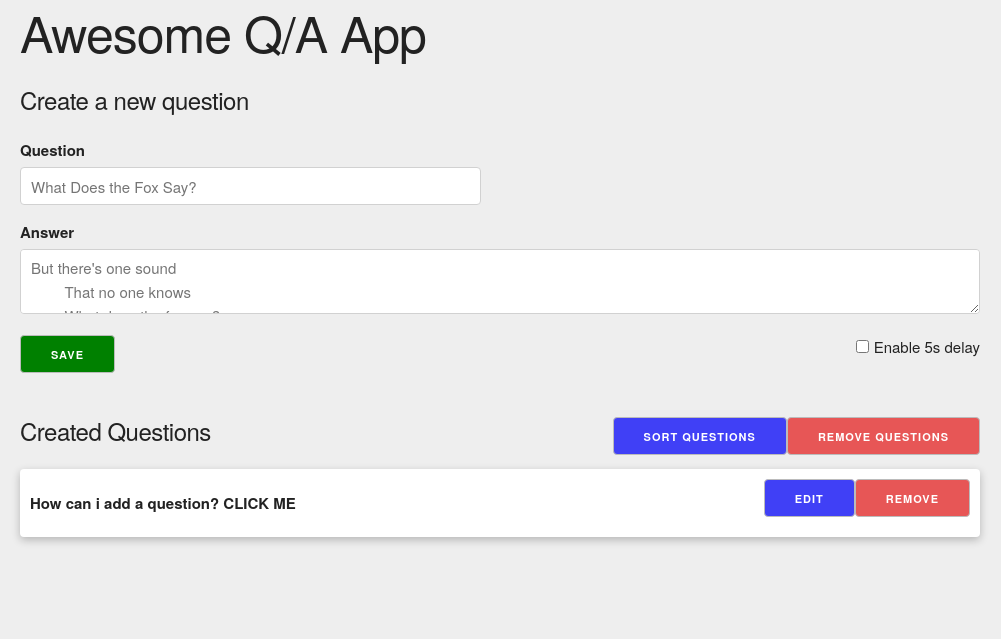
Test: Question › Remove all questions
Type "REMOVE QUESTIONS" into the field labelled "Question" at (251, 186), box [20,167,481,205]
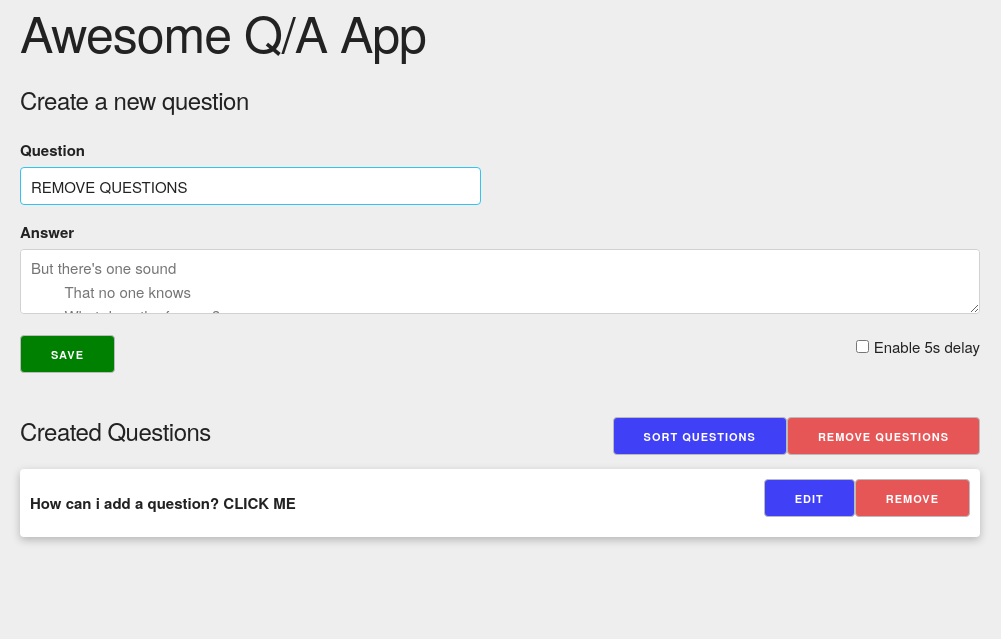
Type "REMOVE ANSWERS" into the text box with id "answer" at (500, 282), box [20,249,980,314]
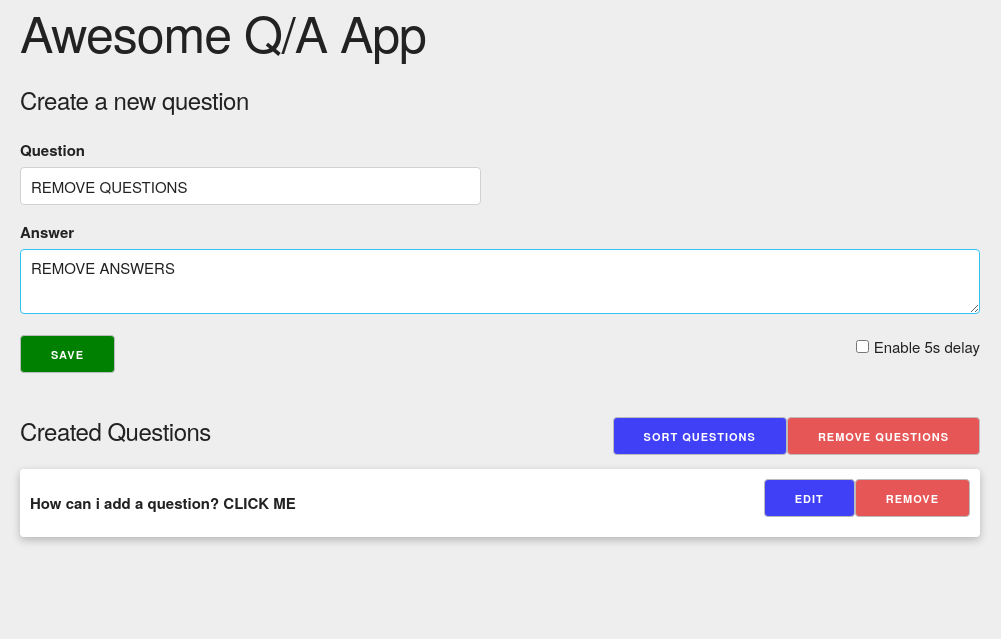
Click the button "Save" at (68, 354), box [20,335,115,373]
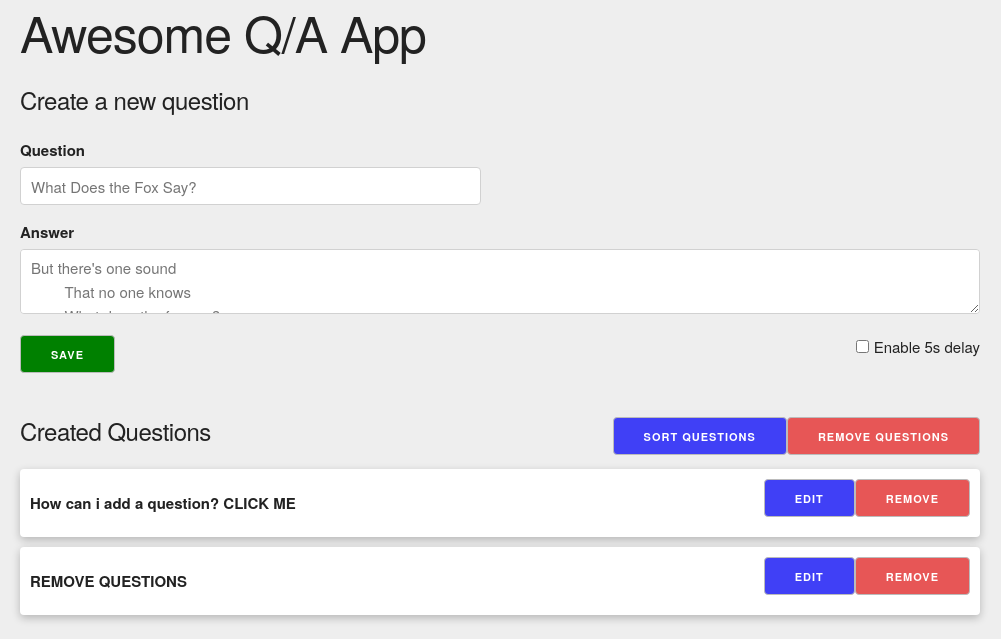
Click the button "Remove Questions" at (884, 436), box [787,417,980,455]
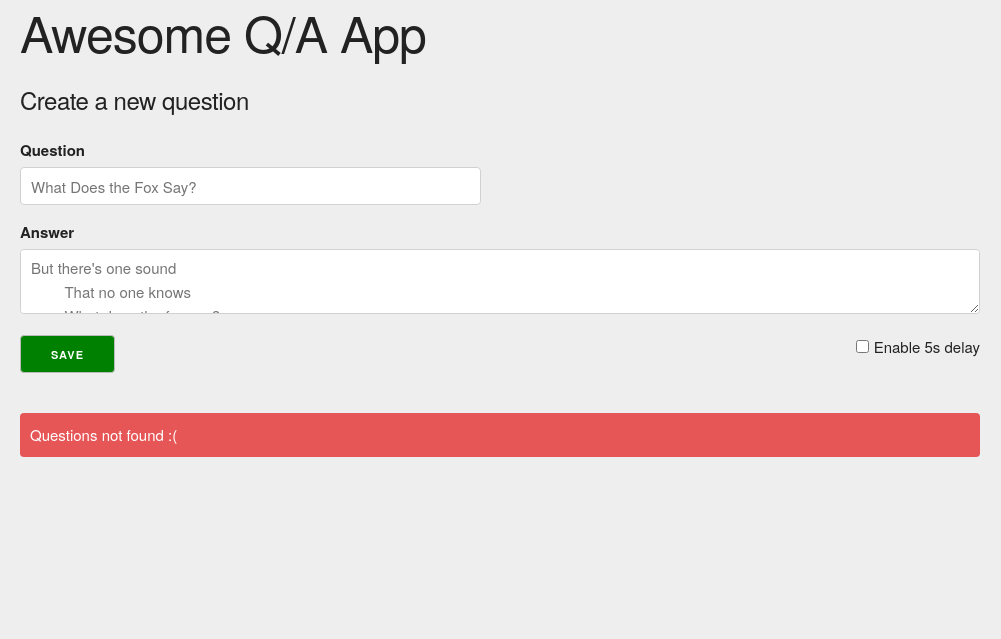
Now the text with class "error-bar" reads "Questions not found :(", box [20,413,980,457]
